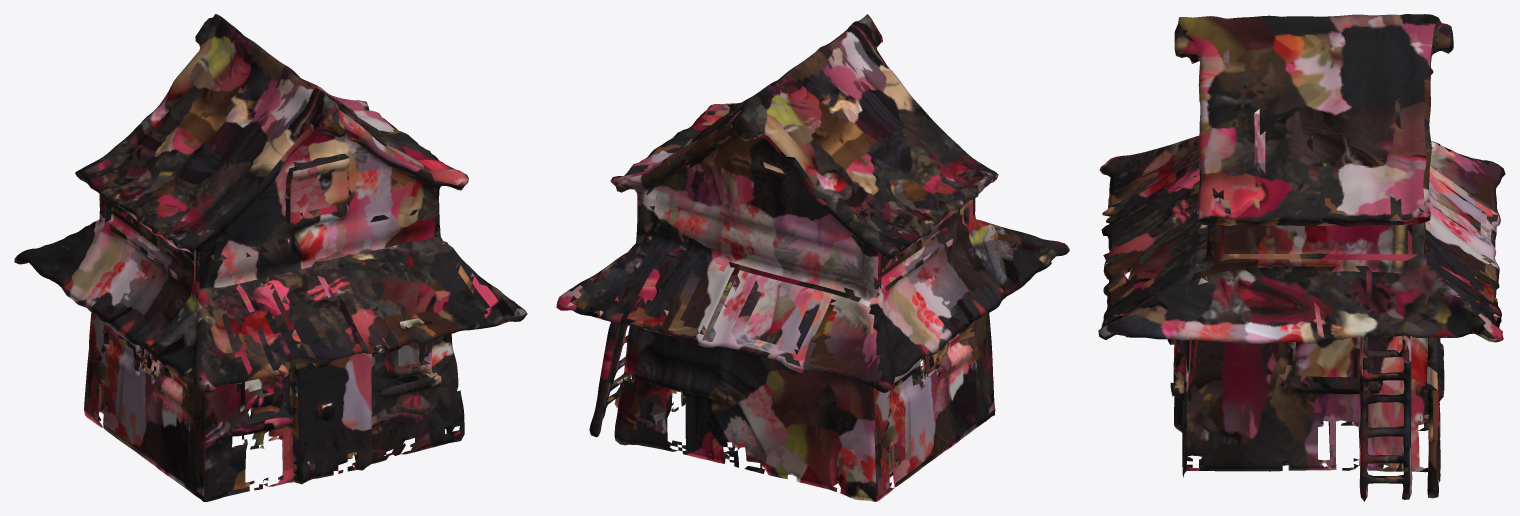
Rendered from House_Japanese_3.1.fbx.
3 renders of one model, left to right at view 1: azimuth 30°, elevation 25°; view 2: azimuth 150°, elevation 25°; view 3: azimuth 270°, elevation 25°, orthographic. The views are drawn at different scales.
Parts seen in each view (by area): view 1: Mesh1; view 2: Mesh1; view 3: Mesh1.
Part boxes in pixels (x1,y1,x2,y2): Mesh1: (14, 14, 527, 501); Mesh1: (556, 14, 1069, 501); Mesh1: (1098, 14, 1505, 501).
Bounding box in the file's own units: 189 × 200 × 183.
